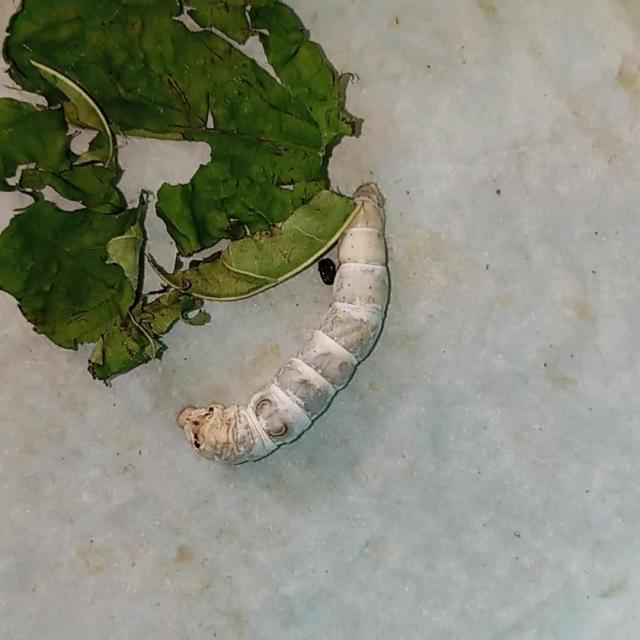Grasserie: (165, 153, 418, 488)
